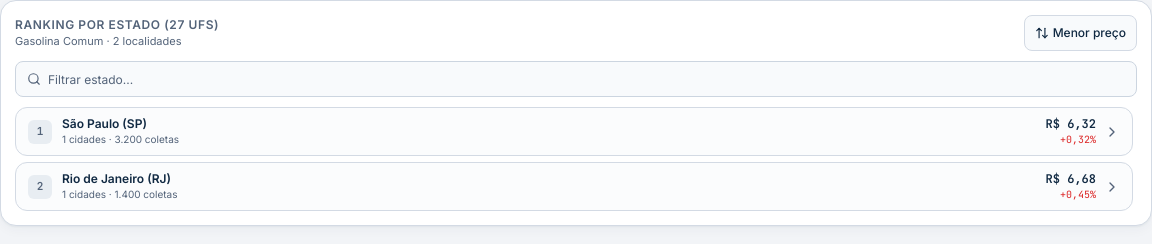
Scenario: ItemListPanel, QuickItemPills & LocationRankingList › sorts and filters state and city rankings
Later steps or results of the test are not shown.
Check: the heading "Ranking por Estado (27 UFs)" is shown, box [15,17,219,33]
Click the button "Menor preço". click: (1080, 33)
box: [1024,15,1137,51]
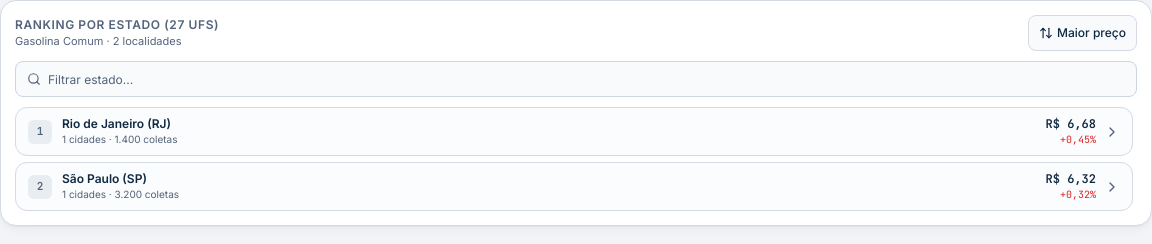
Check: the button "Maior preço" is shown
Click the button "Maior preço". click: (1083, 33)
box: [1028,15,1137,51]
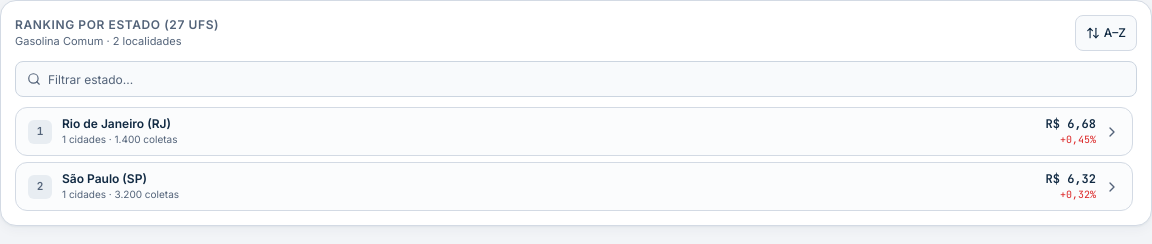
Check: the button "A–Z" is shown, box [1075,15,1137,51]
